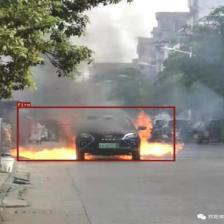fire: (16, 106, 175, 161)
